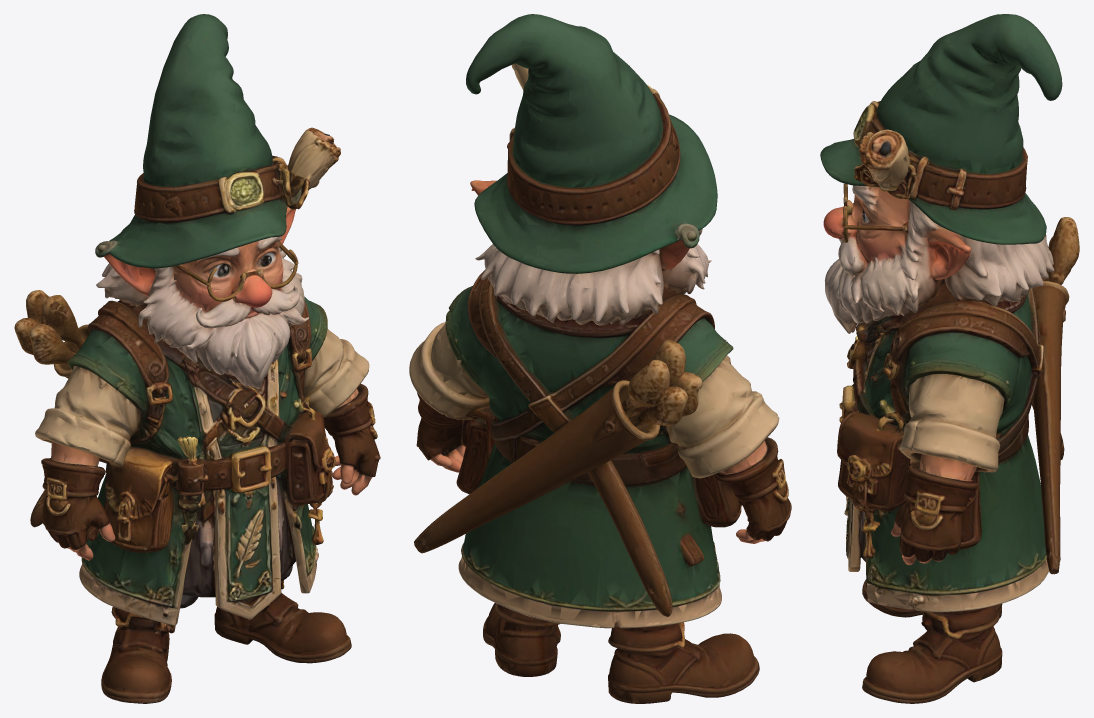
The model's file is scribe.glb.
3 renders of one model, left to right at view 1: azimuth 30°, elevation 25°; view 2: azimuth 150°, elevation 25°; view 3: azimuth 270°, elevation 25°, orthographic. The views are drawn at different scales.
Visible parts, largest first — view 1: Scribe_Export; view 2: Scribe_Export; view 3: Scribe_Export.
Part boxes in pixels (x1,y1,x2,y2): Scribe_Export: (14,14,380,703); Scribe_Export: (409,14,791,703); Scribe_Export: (820,14,1079,703).
Size of the model in its own units: 0.5463 by 0.9798 by 0.3565.
1 material, 1 textured.
